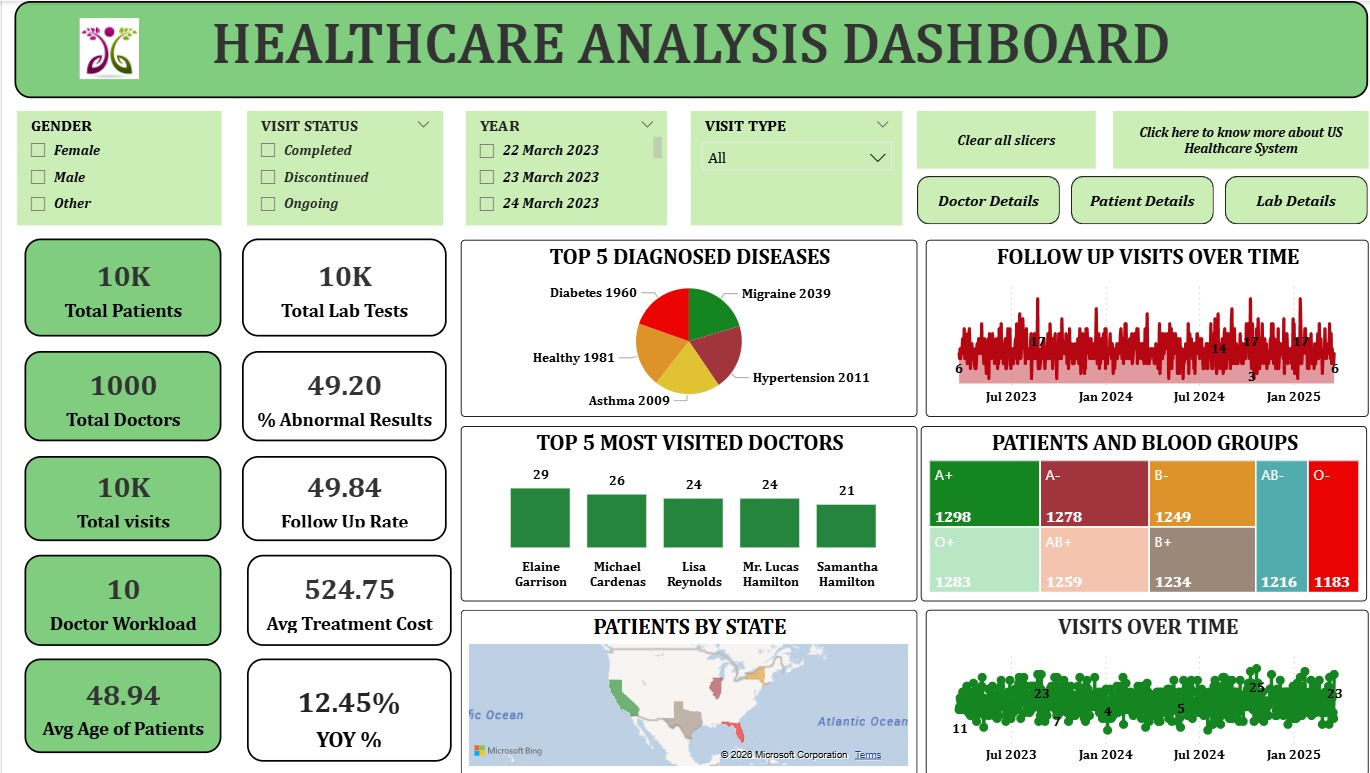

This screenshot's page, from the dashboard's own definition file:
{"tool":"tableau","page":{"name":"Dashboard 1","canvas":[1000,1000],"units":"permille","ordinal":0},"visuals":[{"type":"text","box":[4.8,10,990.3,95.7]},{"type":"worksheet","title":"Donut","mark":"Pie","rows":["Calculation_1027383685185384452","Calculation_1027383685185384452"],"box":[4.8,105.7,165.5,417.8]},{"type":"worksheet","title":"Lab Results","mark":"Automatic","box":[170.3,105.7,130.6,166.3]},{"type":"worksheet","title":"Reason for Vist","mark":"Square","rows":["Reason for Visit"],"box":[301,105.7,148,457.8]},{"type":"worksheet","title":"Tot Patients","mark":"Automatic","box":[449,105.7,132.4,152.6]},{"type":"worksheet","title":"Map","mark":"Automatic","box":[581.5,105.7,317.2,457.8]},{"type":"filter","title":"Abnormal","param":"[federated.0d7nf9d1tak6vo12dalkw18d9vq9].[none:Gender:nk]","box":[898.6,105.7,96.6,158.6]},{"type":"worksheet","title":"Tot Visit","mark":"Automatic","box":[449,258.2,132.4,152.6]},{"type":"filter","title":"Top 5 DD","param":"[federated.0d7nf9d1tak6vo12dalkw18d9vq9].[none:Diagnosis:nk]","box":[898.6,264.2,96.6,196]},{"type":"worksheet","title":"Abnormal","mark":"Automatic","box":[170.3,272,130.6,166.3]},{"type":"worksheet","title":"Tot Doc","mark":"Automatic","box":[449,410.8,132.4,152.6]},{"type":"worksheet","title":"Follow Up Rate","mark":"Automatic","box":[170.3,438.3,130.6,125.1]},{"type":"filter","title":"Yearly treat cost","param":"[federated.0d7nf9d1tak6vo12dalkw18d9vq9].[yr:Visit Date:ok]","box":[898.6,460.2,96.6,162.3]},{"type":"dashboard-object","box":[4.8,523.5,165.5,40]},{"type":"worksheet","title":"Yearly treat cost","mark":"Bar","rows":["Treatment Cost"],"cols":["Diagnosis","Visit Date"],"box":[4.8,563.4,444.2,245.6]},{"type":"worksheet","title":"Workload","mark":"Automatic","box":[449,563.4,132.4,137.3]},{"type":"worksheet","title":"Visit Status","mark":"Pie","box":[581.4,563.4,158.6,426.6]},{"type":"worksheet","title":"Top 5 DD","mark":"Automatic","rows":["Diagnosis"],"cols":["Visit ID"],"box":[740,563.4,158.6,426.6]},{"type":"filter","title":"Abnormal","param":"[federated.0d7nf9d1tak6vo12dalkw18d9vq9].[none:Visit Type:nk]","box":[898.6,622.5,96.6,172.3]},{"type":"worksheet","title":"Avg Age","mark":"Automatic","box":[449,700.8,132.4,161.1]},{"type":"image","param":"Image/Health-insurance.png","box":[898.6,794.8,96.6,110.3]},{"type":"worksheet","title":"Line Chart","mark":"Line","rows":["Visit ID"],"cols":["Visit Date"],"box":[4.8,809,444.2,181]},{"type":"worksheet","title":"Avg Treat Cost","mark":"Automatic","box":[449,861.8,132.4,128.2]},{"type":"text","box":[898.6,905.1,96.6,84.9]}]}

Visuals, with their boxes on the dashboard's canvas, which has no fixed pixel size, in thousandths of its width and height (x1, y1, x2, y2). These are canvas units, not pixel positions in the 1370x773 screenshot, which may show the page scaled, cropped or inside an application window:
text: [x1=5, y1=10, x2=995, y2=106]
"Donut" worksheet (Pie marks): [x1=5, y1=106, x2=170, y2=524]
"Lab Results" worksheet: [x1=170, y1=106, x2=301, y2=272]
"Reason for Vist" worksheet (Square marks): [x1=301, y1=106, x2=449, y2=564]
"Tot Patients" worksheet: [x1=449, y1=106, x2=581, y2=258]
"Map" worksheet: [x1=582, y1=106, x2=899, y2=564]
"Abnormal" filter: [x1=899, y1=106, x2=995, y2=264]
"Tot Visit" worksheet: [x1=449, y1=258, x2=581, y2=411]
"Top 5 DD" filter: [x1=899, y1=264, x2=995, y2=460]
"Abnormal" worksheet: [x1=170, y1=272, x2=301, y2=438]
"Tot Doc" worksheet: [x1=449, y1=411, x2=581, y2=563]
"Follow Up Rate" worksheet: [x1=170, y1=438, x2=301, y2=563]
"Yearly treat cost" filter: [x1=899, y1=460, x2=995, y2=622]
dashboard-object: [x1=5, y1=524, x2=170, y2=564]
"Yearly treat cost" worksheet (Bar marks): [x1=5, y1=563, x2=449, y2=809]
"Workload" worksheet: [x1=449, y1=563, x2=581, y2=701]
"Visit Status" worksheet (Pie marks): [x1=581, y1=563, x2=740, y2=990]
"Top 5 DD" worksheet: [x1=740, y1=563, x2=899, y2=990]
"Abnormal" filter: [x1=899, y1=622, x2=995, y2=795]
"Avg Age" worksheet: [x1=449, y1=701, x2=581, y2=862]
image: [x1=899, y1=795, x2=995, y2=905]
"Line Chart" worksheet (Line marks): [x1=5, y1=809, x2=449, y2=990]
"Avg Treat Cost" worksheet: [x1=449, y1=862, x2=581, y2=990]
text: [x1=899, y1=905, x2=995, y2=990]
